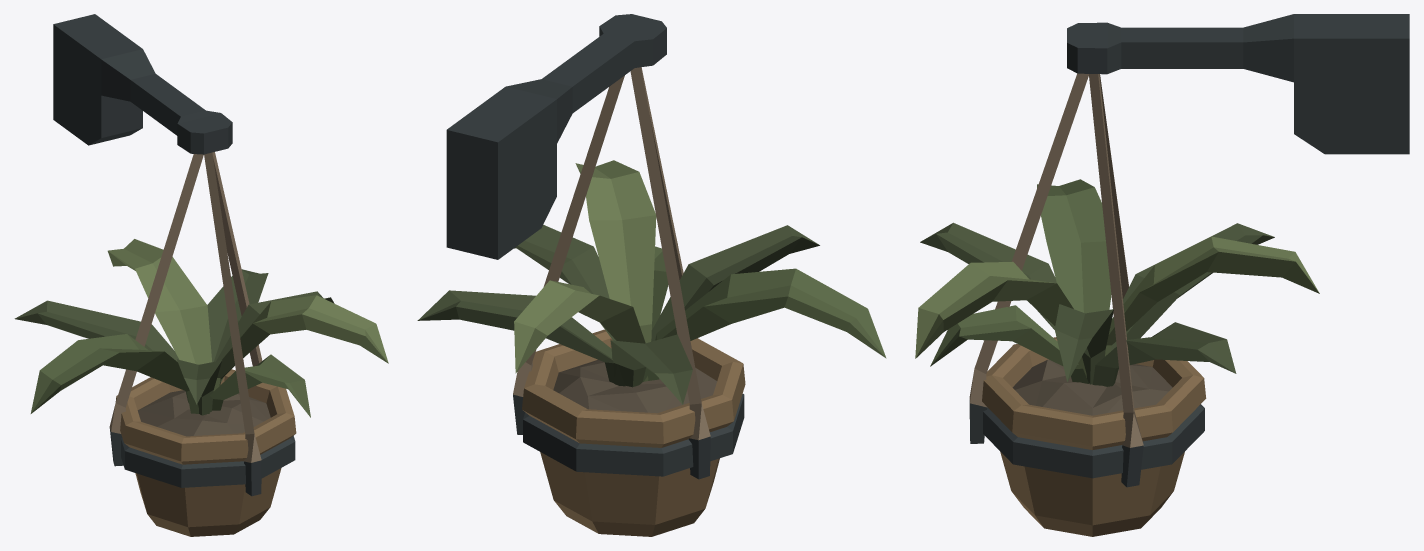
File: kingdom_SM_Prop_Bracket_Pot_03_Preset_03.gltf
3 views of the same model, side by side, from view 1: azimuth 30°, elevation 25°; view 2: azimuth 150°, elevation 25°; view 3: azimuth 270°, elevation 25° (orthographic). The views are drawn at different scales.
Parts seen in each view (by area): view 1: SM_Prop_Bracket_Pot_03_Preset_03; view 2: SM_Prop_Bracket_Pot_03_Preset_03; view 3: SM_Prop_Bracket_Pot_03_Preset_03.
Part boxes in pixels (left/top/right/bottom): SM_Prop_Bracket_Pot_03_Preset_03: left=14, top=14, right=388, bottom=536; SM_Prop_Bracket_Pot_03_Preset_03: left=417, top=14, right=886, bottom=536; SM_Prop_Bracket_Pot_03_Preset_03: left=915, top=14, right=1409, bottom=536.
Size of the model in its own units: 0.9945 by 1.18 by 1.1.
1 material, 1 textured.
